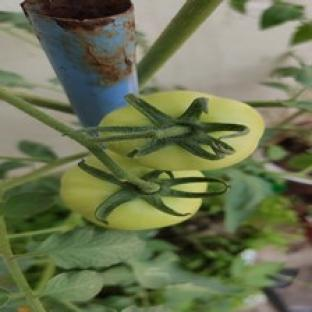Tomato: (106, 91, 264, 169), (62, 166, 201, 229)
